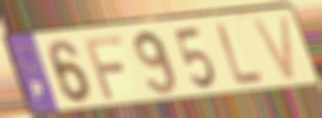5: (171, 26, 217, 91)
6: (47, 38, 94, 107)
9: (132, 29, 179, 97)
F: (82, 33, 127, 102)
L: (213, 21, 266, 87)
V: (249, 13, 300, 86)
